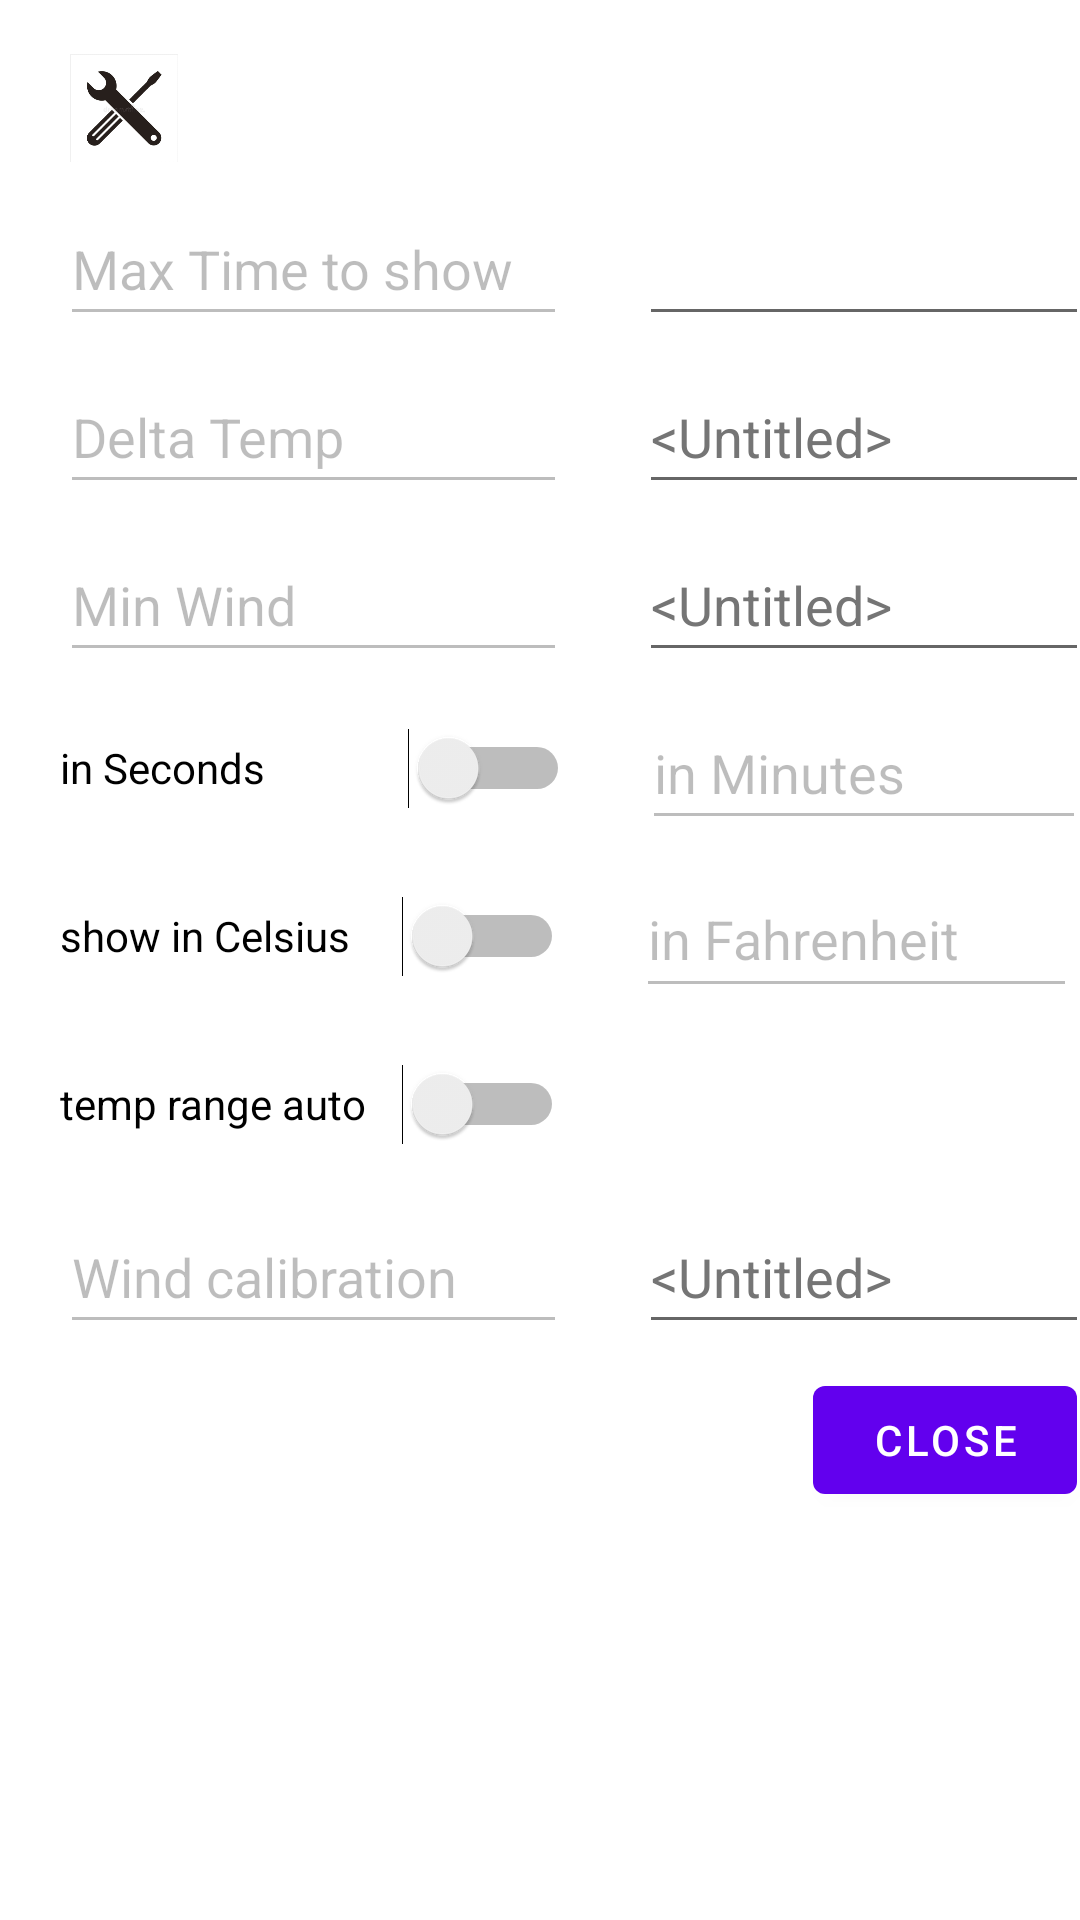

Where icons sit on this 1080×1920 app screen, as Rect(x1, y1, x2, y2):
setup: Rect(87, 71, 162, 146)
